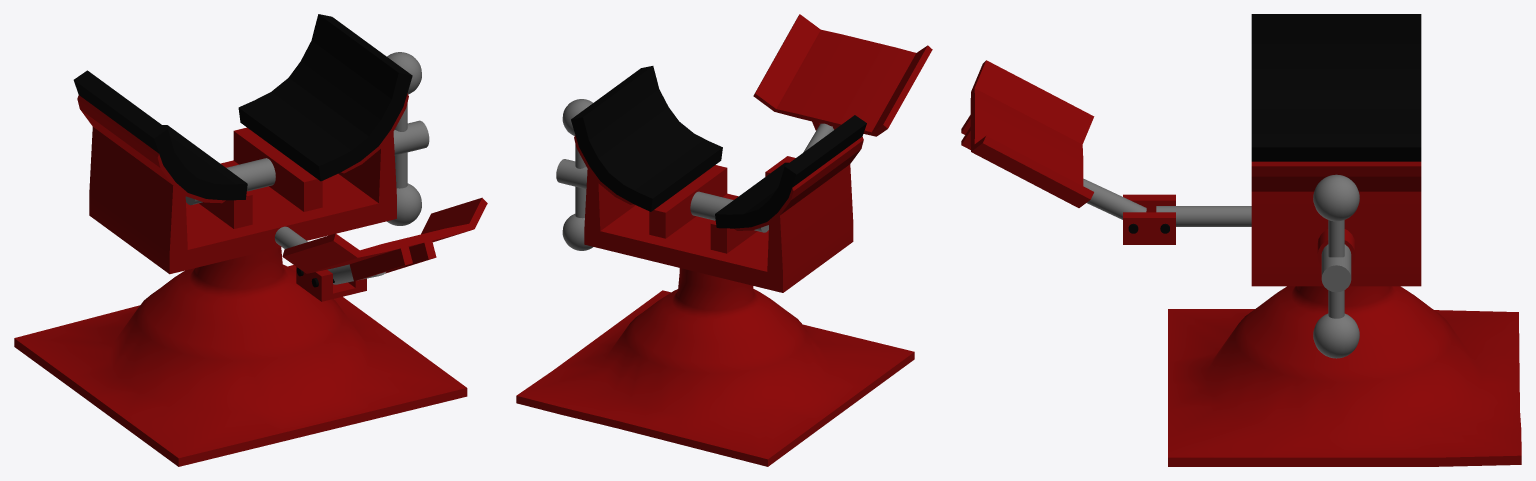
File: player chair_UV.fbx
The picture shows the model from 3 angles, left to right: view 1: azimuth 30°, elevation 25°; view 2: azimuth 150°, elevation 25°; view 3: azimuth 270°, elevation 25°; orthographic projection. The views are drawn at different scales.
Parts seen in each view (by area): view 1: polySurface48; view 2: polySurface48; view 3: polySurface48.
Part boxes in pixels (box(x1,y1,x2,y2)): polySurface48: box(14, 14, 487, 466); polySurface48: box(516, 14, 932, 466); polySurface48: box(961, 14, 1521, 466).
Bounding box in the file's own units: 14.84 × 13.31 × 21.09.
